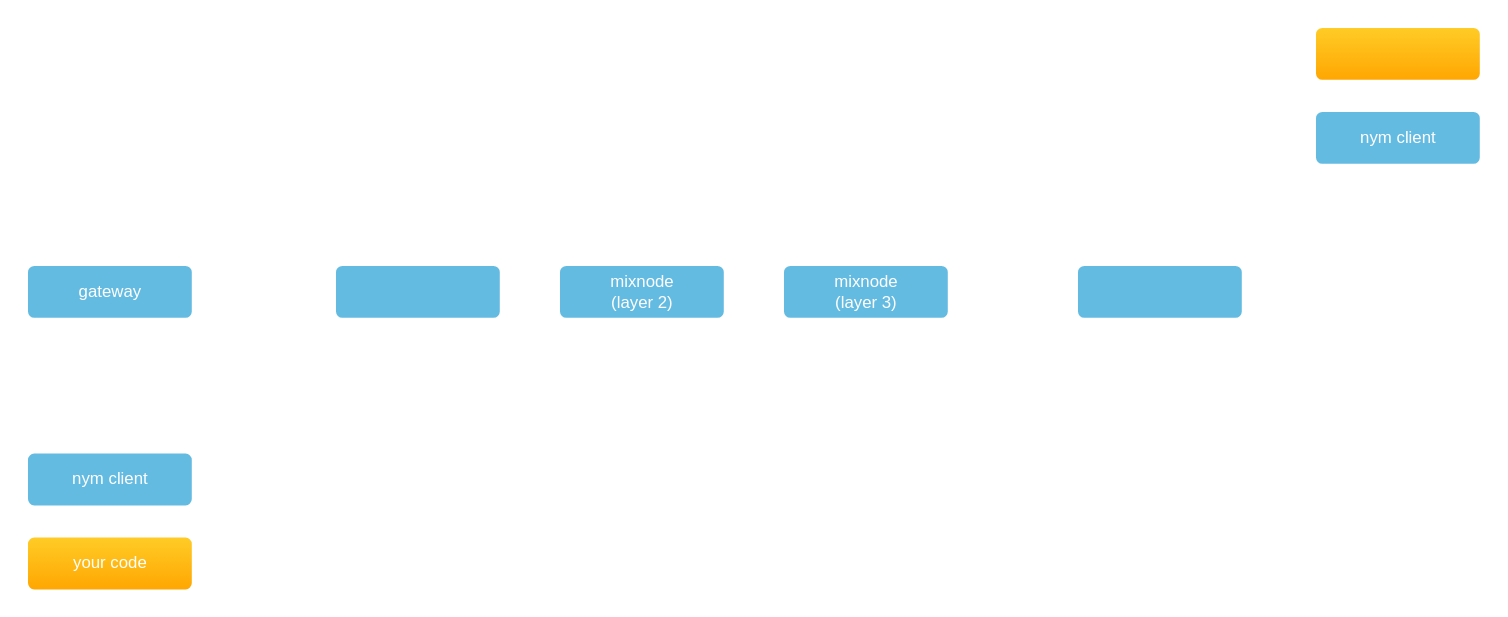
The diagram is 1508 pixels wide and 617 high, and some of its shapes have lost their labels. The box of each missing label's shape, as (x1, y1, x2, y2) in pixels:
mixnode (layer 1): (331, 261, 503, 321)
recipient app code: (1311, 23, 1483, 83)
recipient's gateway: (1073, 261, 1245, 321)
